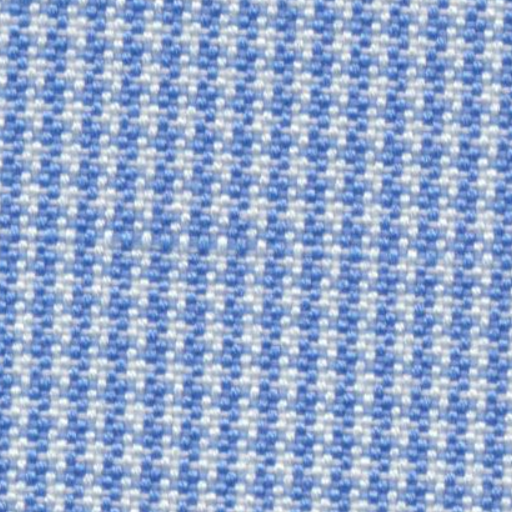TuoSha: (16, 206, 492, 299)
